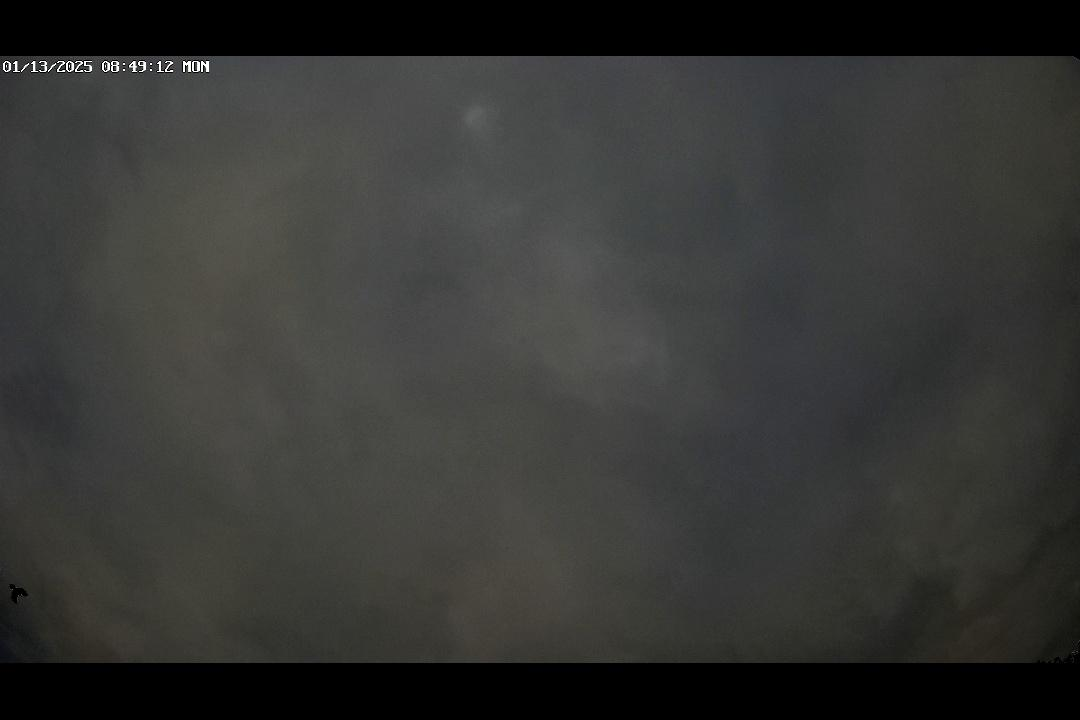WildLife: (0, 576, 50, 607)
